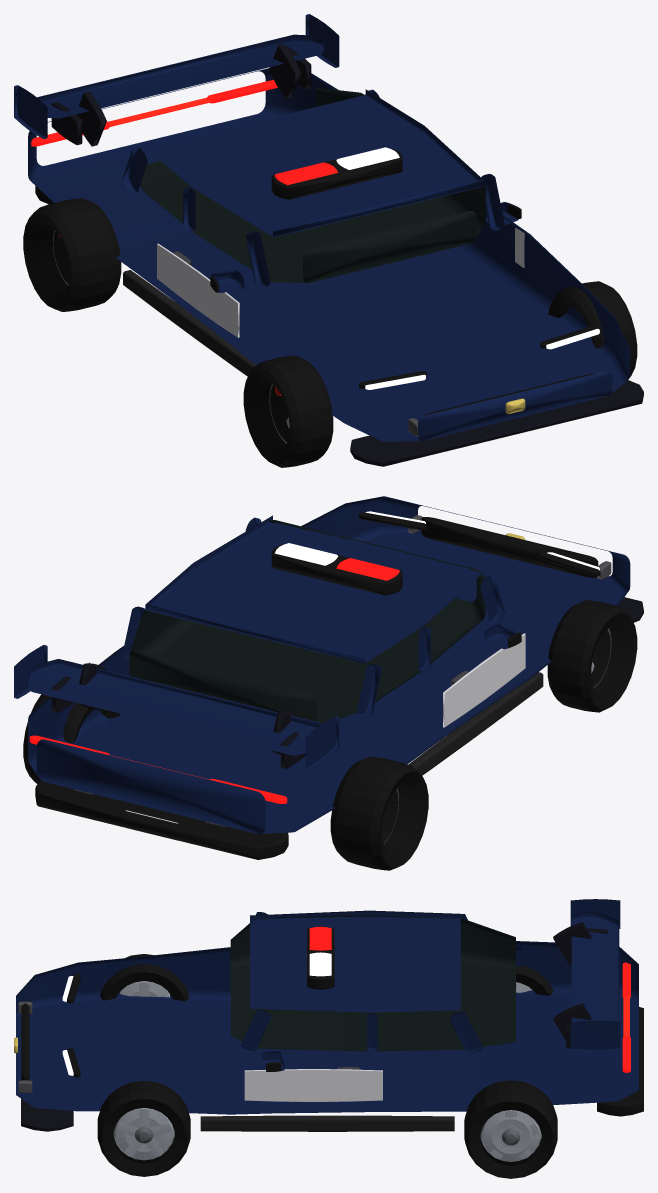
The model's file is police_lambo_diablo.glb.
3 renders of one model, top to bottom at view 1: azimuth 30°, elevation 25°; view 2: azimuth 150°, elevation 25°; view 3: azimuth 270°, elevation 25°, orthographic. The views are drawn at different scales.
Parts seen in each view (by area): view 1: root, wheelRL, wheelFL, siren, wheelFR; view 2: root, wheelRL, wheelFL, siren, wheelRR; view 3: root, wheelRR, wheelFR, wheelFL, siren, wheelRL.
Part boxes in pixels (bbox=[...]): root: bbox=[14, 14, 643, 466]; wheelRL: bbox=[23, 198, 121, 311]; wheelFL: bbox=[243, 355, 333, 467]; siren: bbox=[271, 147, 402, 199]; wheelFR: bbox=[548, 281, 637, 377]; root: bbox=[14, 496, 643, 859]; wheelRL: bbox=[330, 756, 428, 870]; wheelFL: bbox=[547, 600, 637, 712]; siren: bbox=[271, 543, 402, 595]; wheelRR: bbox=[23, 694, 120, 783]; root: bbox=[14, 899, 643, 1131]; wheelRR: bbox=[464, 1080, 557, 1178]; wheelFR: bbox=[97, 1080, 190, 1176]; wheelFL: bbox=[100, 954, 188, 1001]; siren: bbox=[307, 926, 334, 989]; wheelRL: bbox=[516, 965, 553, 995].
Size of the model in its own units: 2.54 by 1.26 by 4.55.
